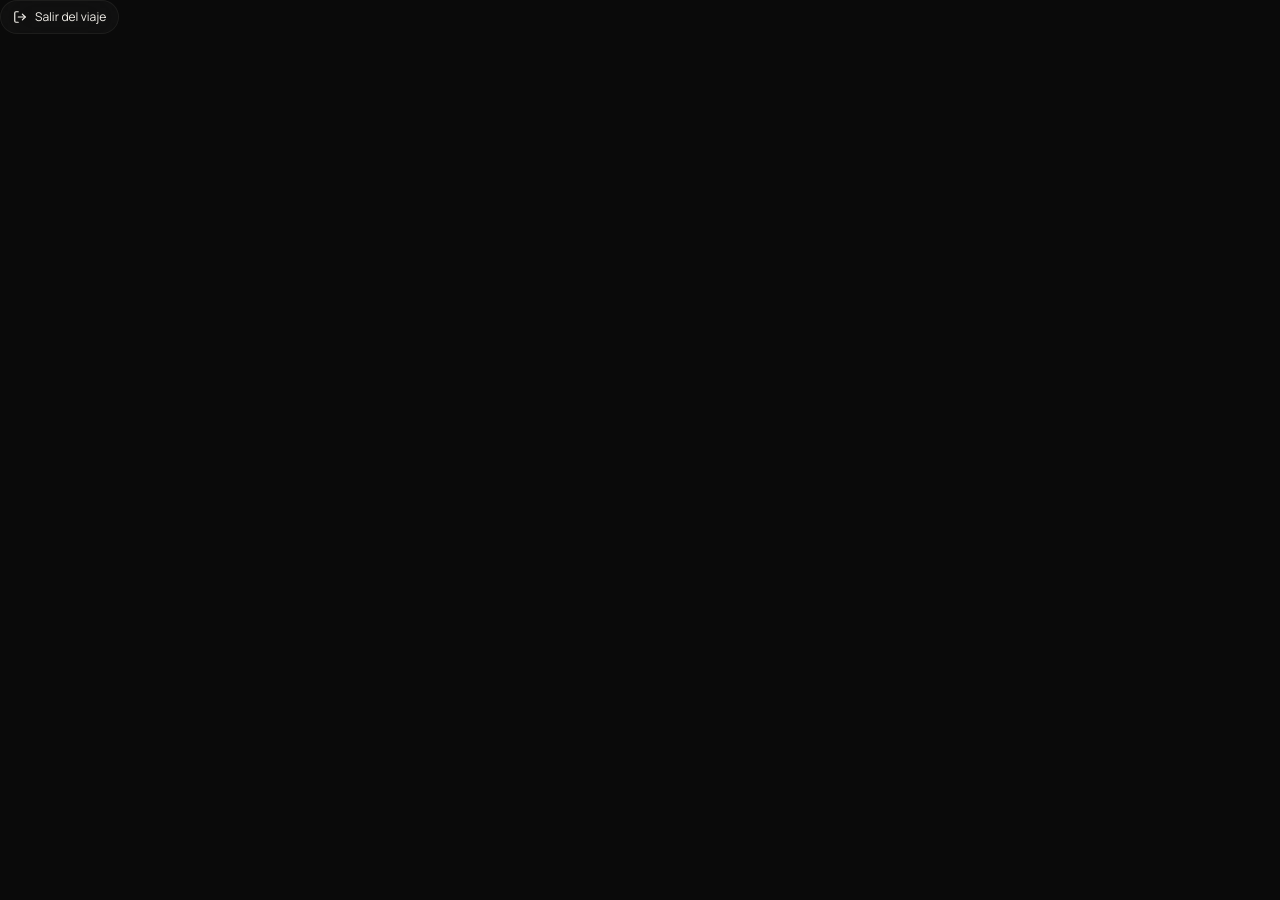
Test: TripDeleteButton › colaborador: sale del viaje sin borrarlo
What coordinates should you click on to do the following:
click the button "Salir del viaje"
I would click on:
 (60, 17)
Its box is 0,0 -> 119,34.
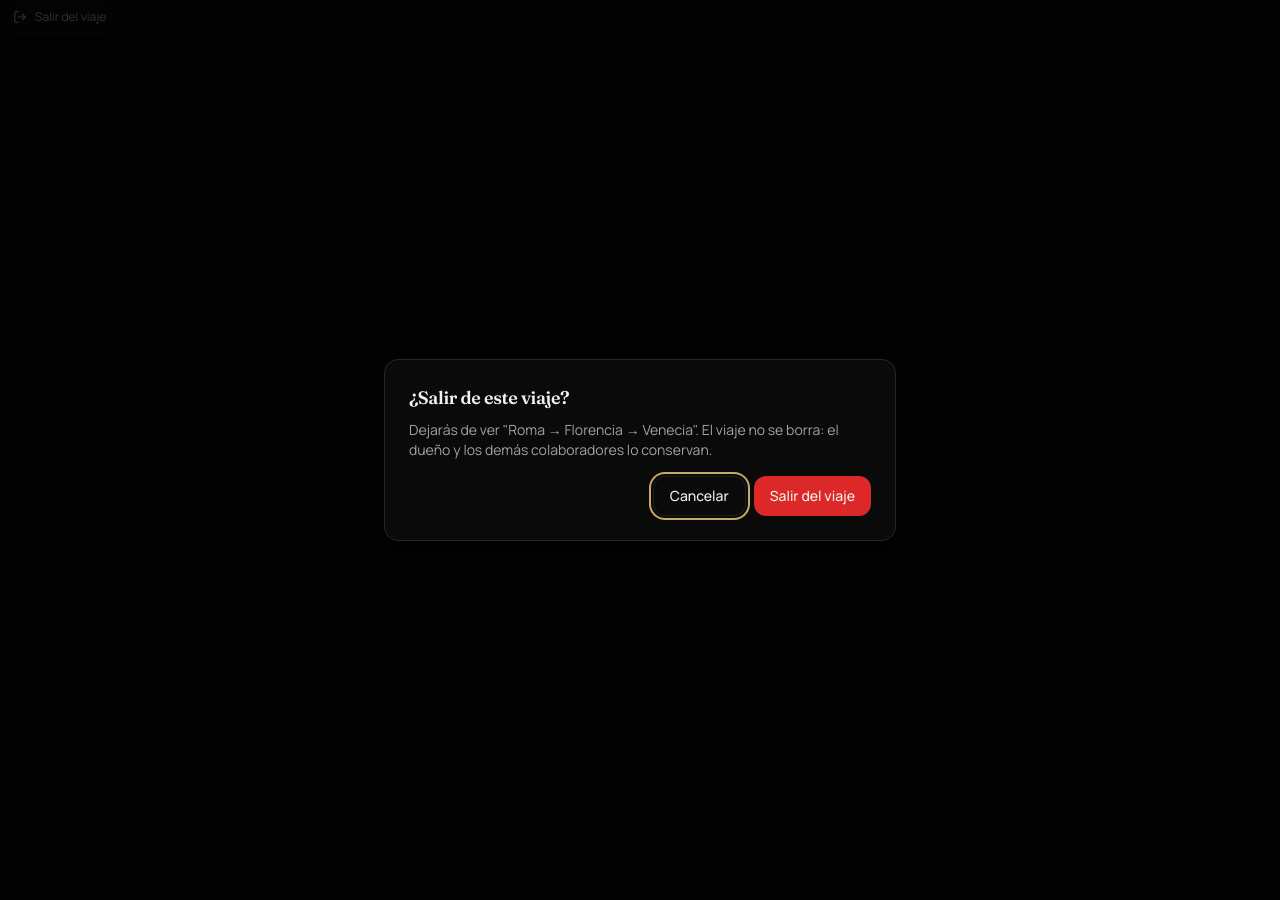
What coordinates should you click on to do the following:
click the button "Salir del viaje"
I would click on:
 (812, 496)
Its box is 754,476 -> 871,516.
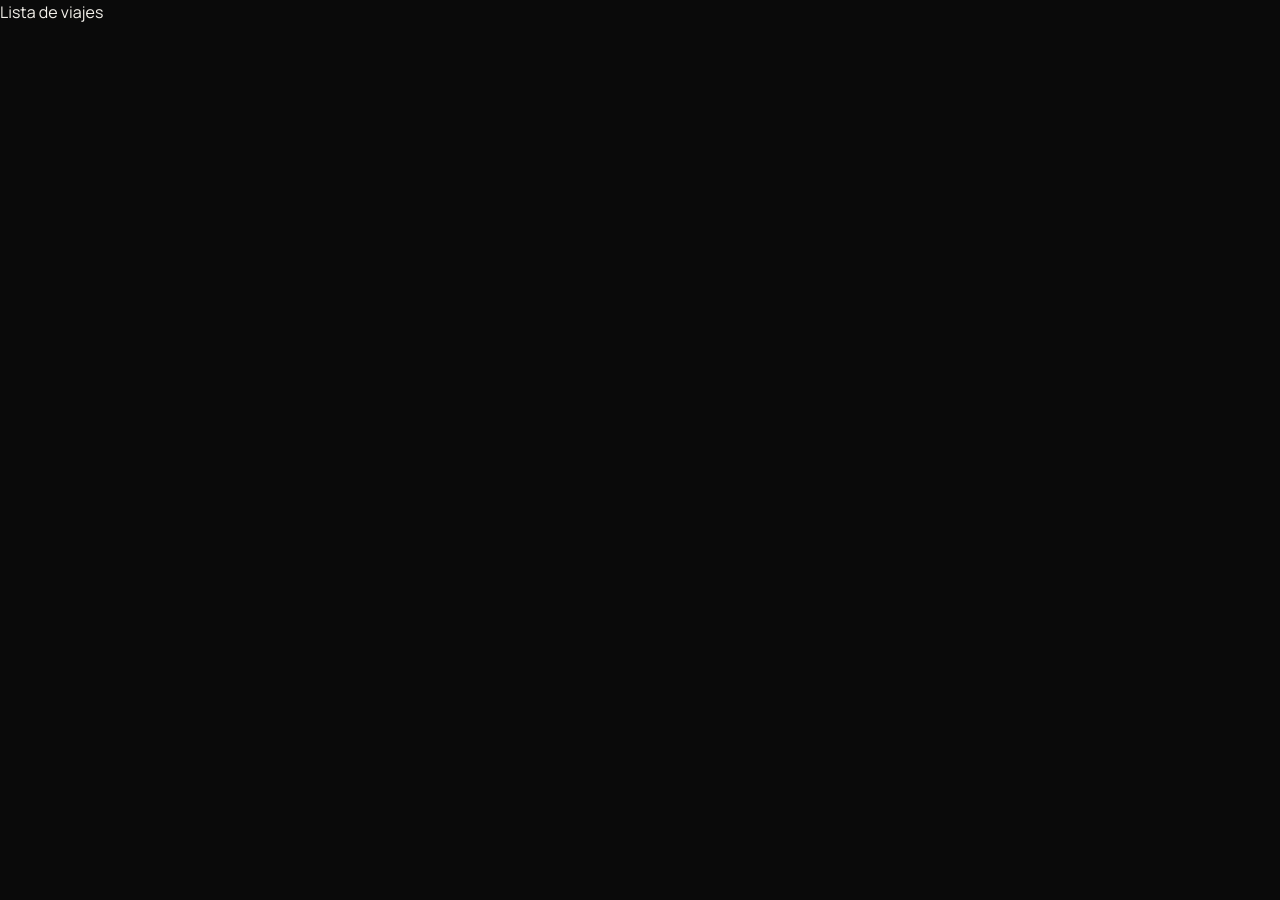
Check: the text "Lista de viajes" is shown, box 0,1 -> 103,23
